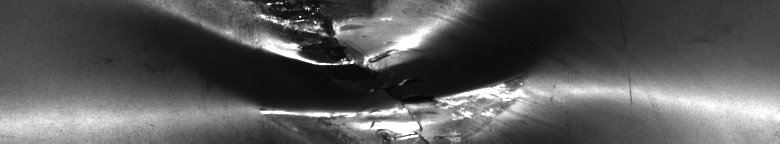ke: (148, 4, 583, 136)
